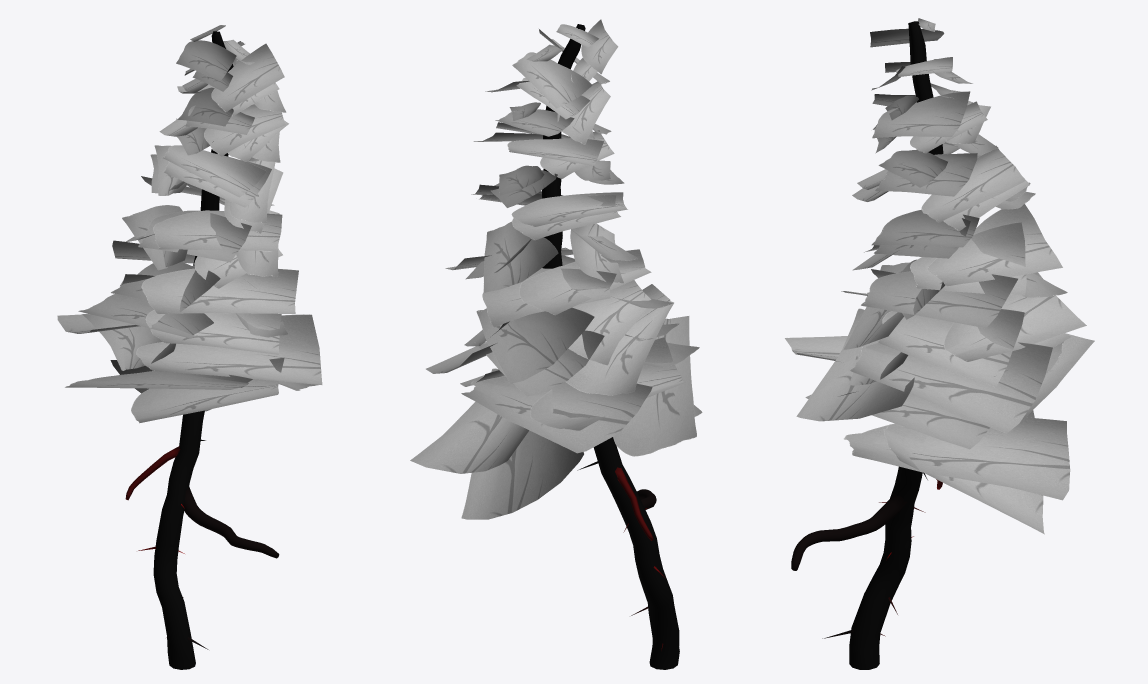
The model's file is M_Pine_5_15.fbx.
The picture shows the model from 3 angles, left to right: view 1: azimuth 30°, elevation 25°; view 2: azimuth 150°, elevation 25°; view 3: azimuth 270°, elevation 25°; orthographic projection. The views are drawn at different scales.
Visible parts, largest first — view 1: Mobile_Pine_15; view 2: Mobile_Pine_15; view 3: Mobile_Pine_15.
Boxes of the visible parts, x1=… form: Mobile_Pine_15: x1=57, y1=25, x2=322, y2=669; Mobile_Pine_15: x1=410, y1=19, x2=702, y2=669; Mobile_Pine_15: x1=785, y1=18, x2=1094, y2=669.
Size of the model in its own units: 2121 by 4183 by 2045.
